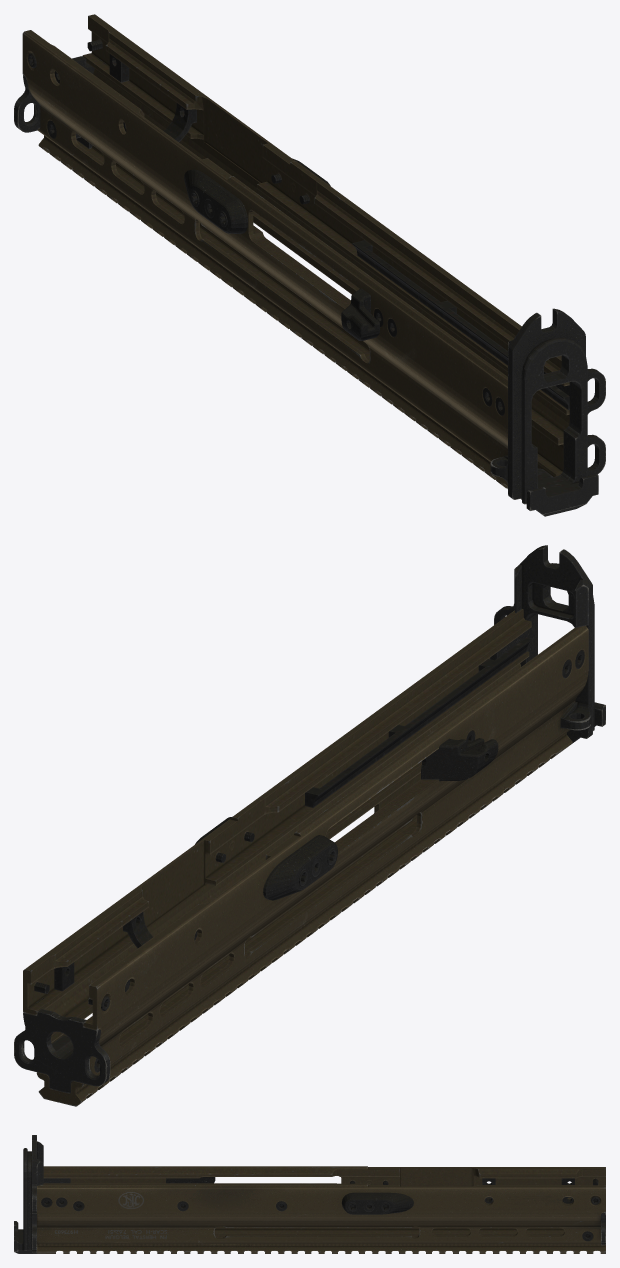
3 views of the same model, one above another, from view 1: azimuth 30°, elevation 25°; view 2: azimuth 150°, elevation 25°; view 3: azimuth 270°, elevation 25° (orthographic). The views are drawn at different scales.
Visible parts, largest first — view 1: TW_6165aeedfaa1272e431521e3_PZ_Import; view 2: TW_6165aeedfaa1272e431521e3_PZ_Import; view 3: TW_6165aeedfaa1272e431521e3_PZ_Import.
Part boxes in pixels (x1,y1,x2,y2): TW_6165aeedfaa1272e431521e3_PZ_Import: (14, 14, 605, 516); TW_6165aeedfaa1272e431521e3_PZ_Import: (14, 545, 605, 1106); TW_6165aeedfaa1272e431521e3_PZ_Import: (14, 1135, 605, 1253).
Bounding box in the file's own units: 0.0358 × 0.2548 × 0.053.
1 material, 1 textured.
